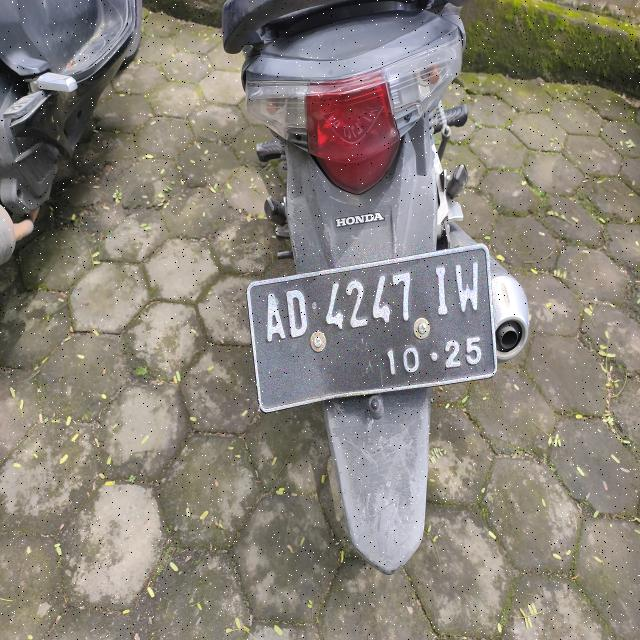plate: (248, 245, 496, 411)
